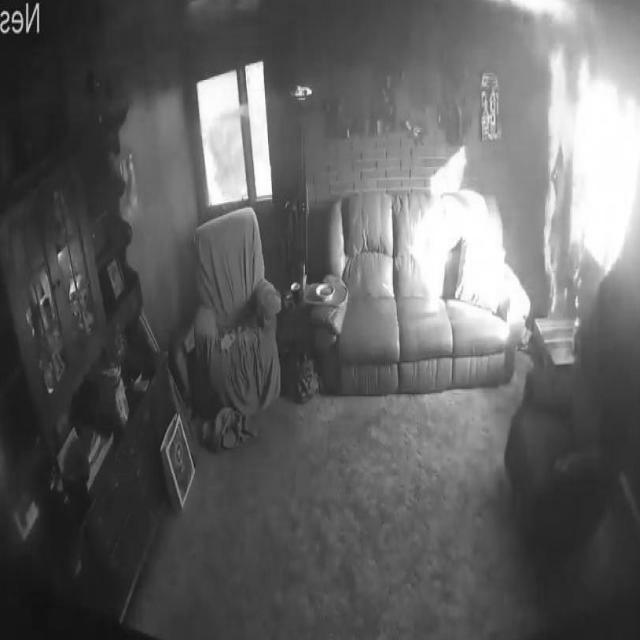smoke: (539, 36, 594, 318), (482, 0, 620, 28)
